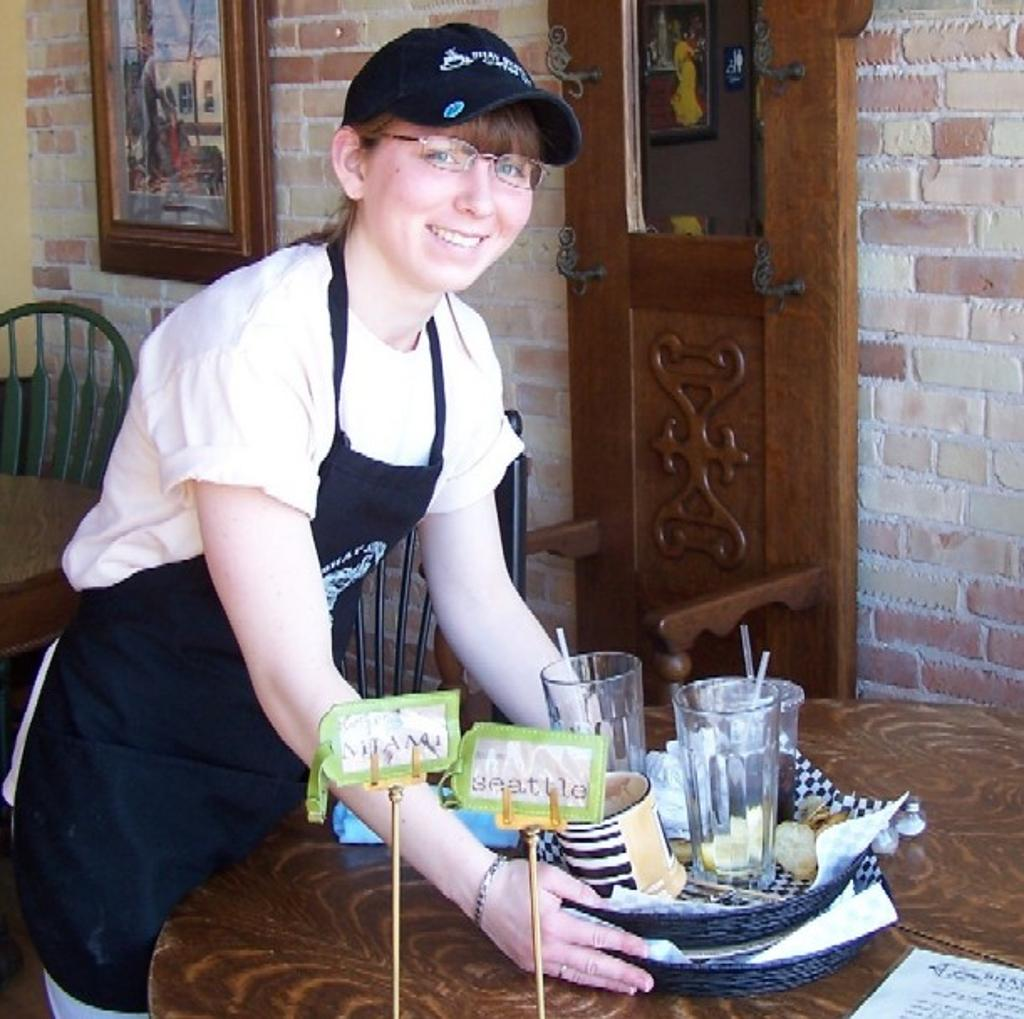face: (366, 84, 536, 294)
